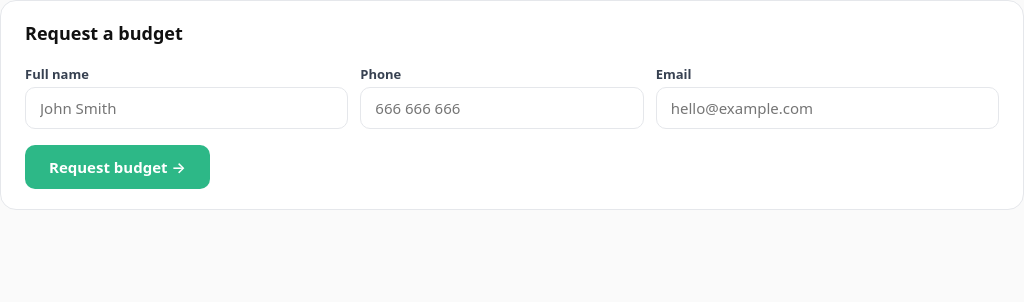
ClientForm › clears errors when user starts typing
Click the button "Request budget →": (117, 167) [25,145,210,189]
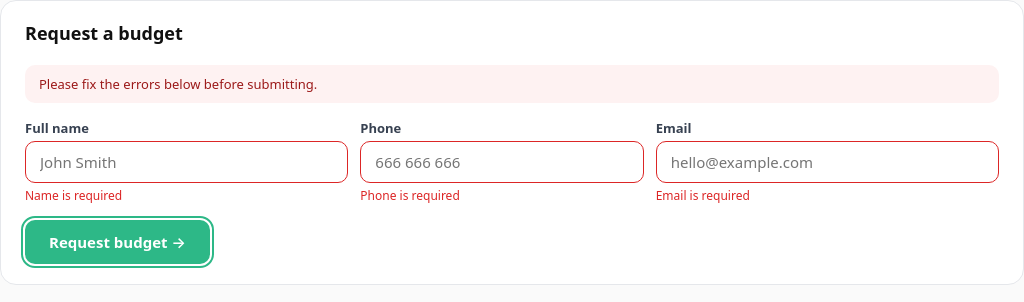
Expected: the text "Name is required" is shown, [25,187,122,204]
In the field labelled "Full name": (187, 162) [25,141,348,183], type "J"
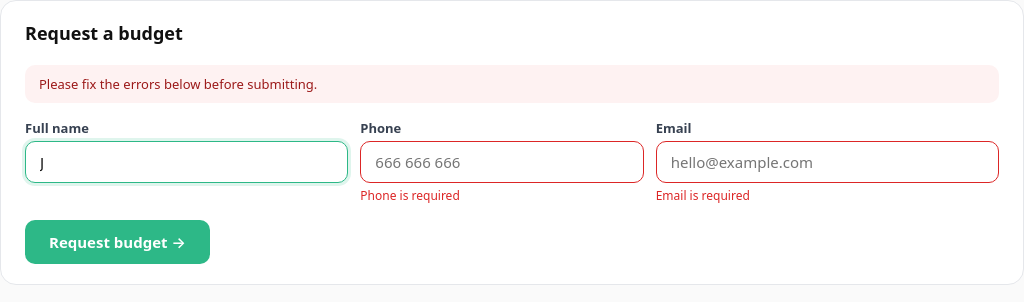
Expected: the text "Name is required" is gone
